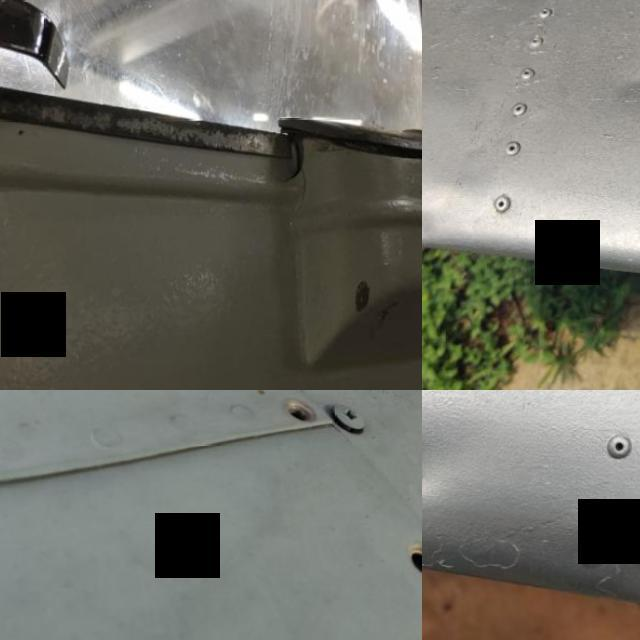Crack: (266, 136, 322, 238)
Dent: (422, 415, 481, 528), (589, 13, 640, 141), (422, 181, 459, 269)
Missing_Fastener: (261, 390, 347, 450), (391, 524, 422, 605)
